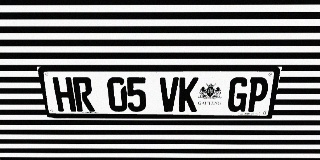0: (106, 77, 128, 112)
5: (126, 77, 146, 112)
G: (227, 77, 250, 112)
H: (52, 77, 76, 112)
K: (178, 77, 199, 112)
P: (245, 77, 270, 112)
R: (72, 77, 95, 112)
V: (160, 77, 179, 112)
